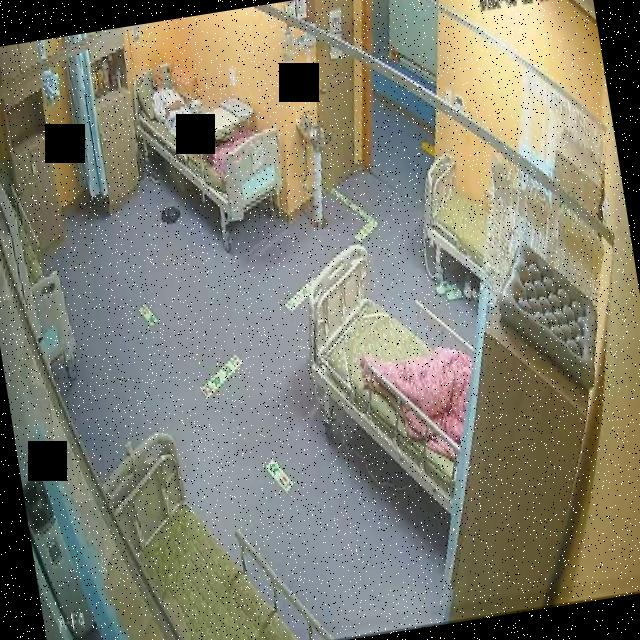bed: (292, 232, 489, 528), (94, 414, 333, 640), (123, 48, 292, 236), (414, 149, 498, 288)
lie: (144, 60, 200, 150)
patient: (145, 62, 199, 152)
